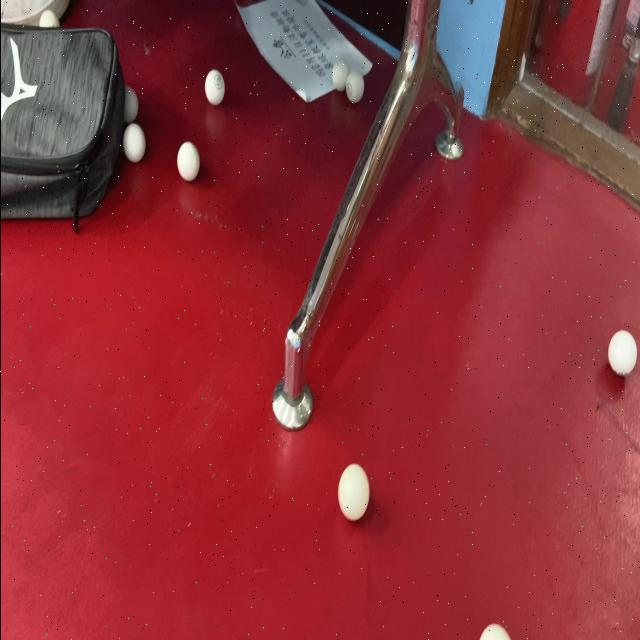ping-pong-ball: (335, 462, 371, 522), (605, 329, 637, 377), (174, 140, 200, 184), (121, 121, 145, 166), (202, 68, 226, 106), (344, 68, 364, 106), (120, 84, 138, 124), (330, 58, 348, 94), (36, 9, 60, 31)
